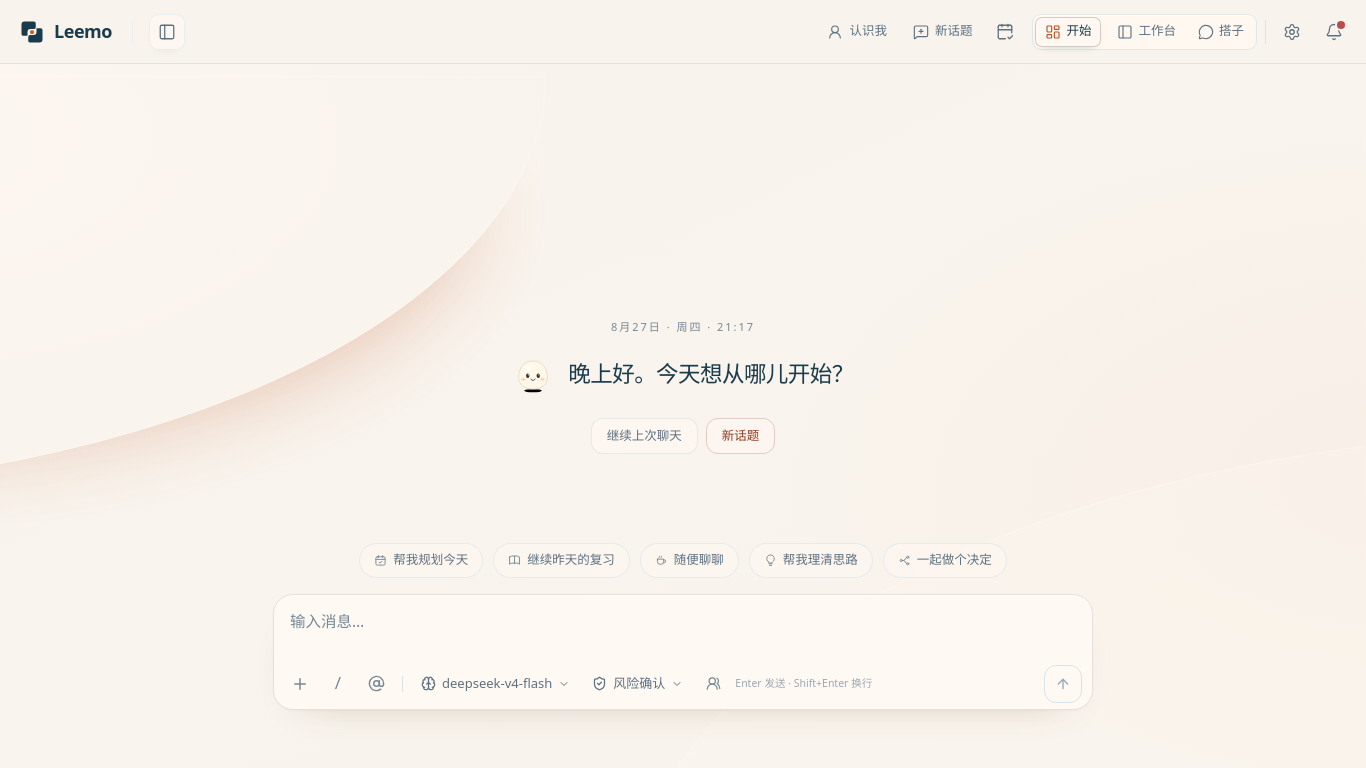
Test: HistoryDrawer — real conversations, not fixtures › groups only real conversations into pinned, today, recent and earlier sections
The width and height of the screenshot is (1366, 768).
Expected: the button "继续上次聊天" is shown, 591,418 -> 698,454
Click the button named "历史对话" at (167, 32), box 149,14 -> 185,50
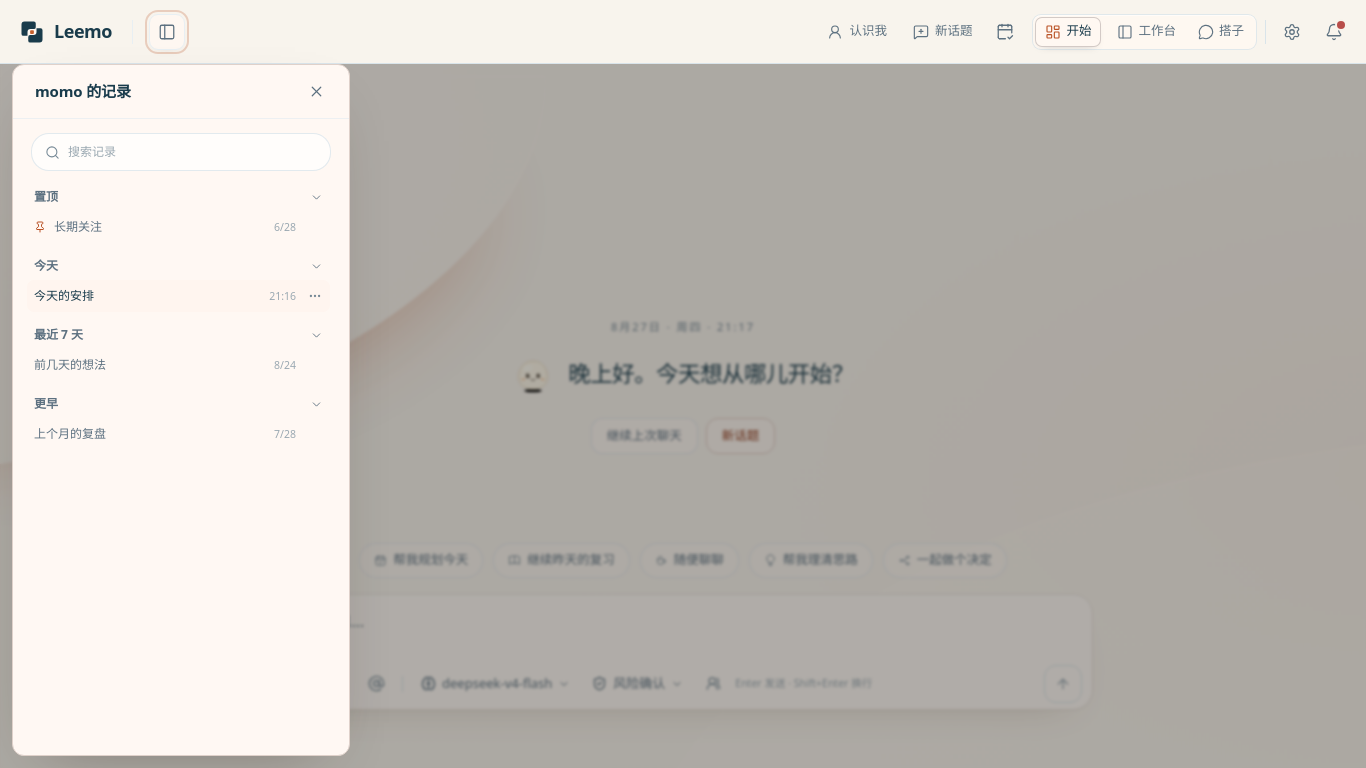
Expected: the button "长期关注" is shown, 27,211 -> 301,243
Expected: the button "今天的安排" is shown, 27,280 -> 301,312
Expected: the button "前几天的想法" is shown, 27,349 -> 301,381
